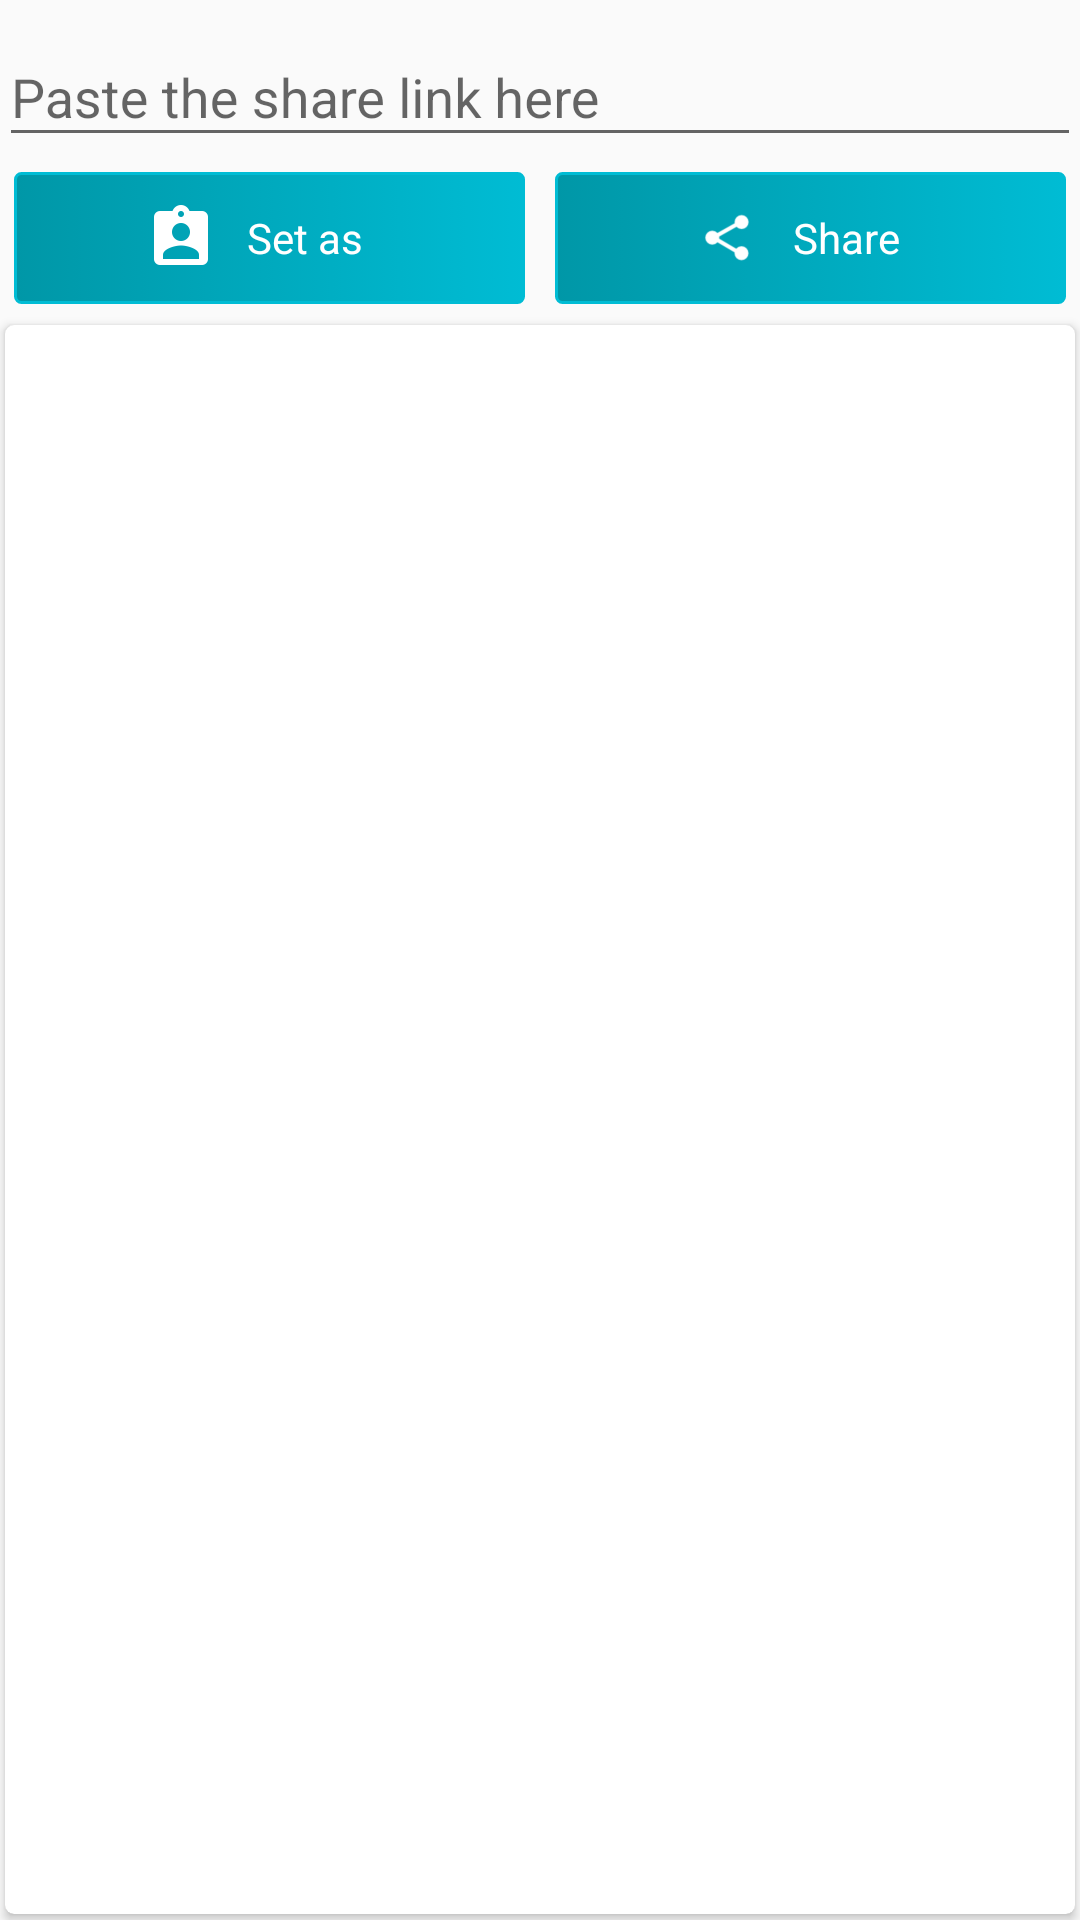

Named icons in this screenshot (1080px×1920px) and their centers, (x,y):
assignment ind: (181,235)
